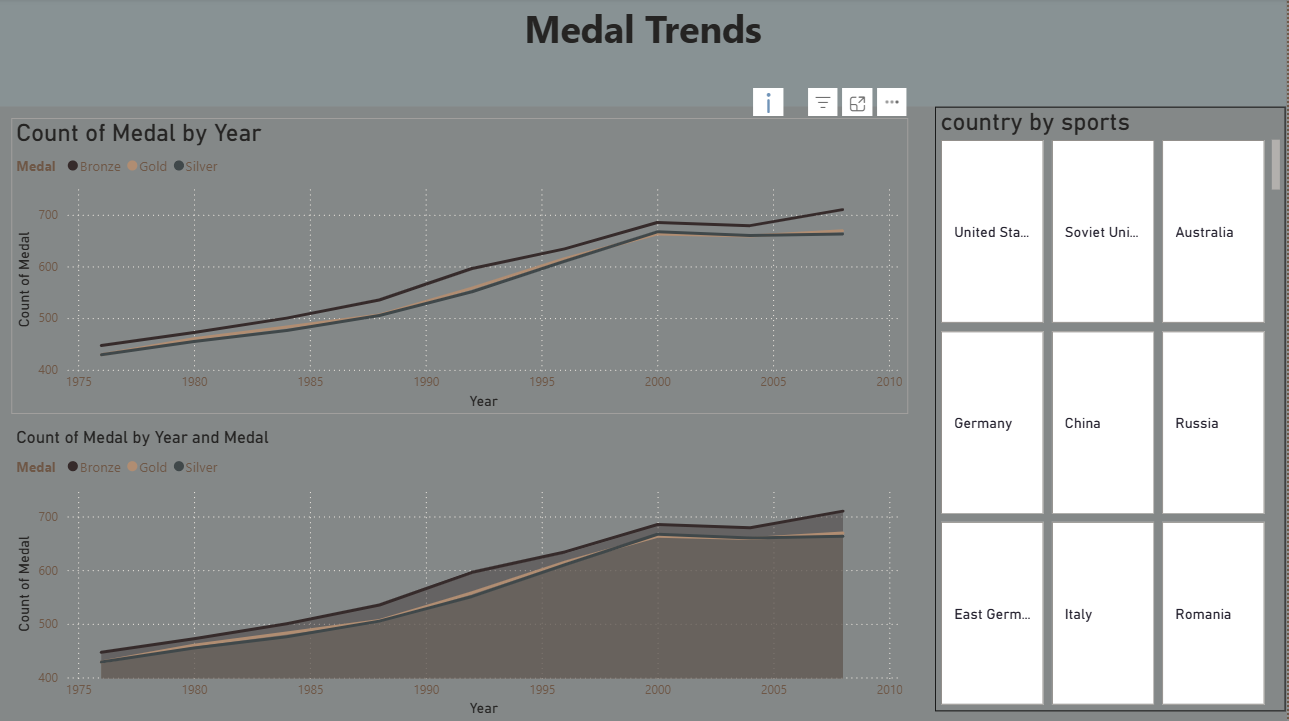

The dashboard page shown, as its layout file describes it:
{"tool":"powerbi","page":{"name":"Page 2","canvas":[1280,720],"ordinal":1},"visuals":[{"type":"textbox","box":[0,0,1279.7,108.2],"z":0},{"type":"lineChart","title":"Count of Medal   by Year ","fields":{"Category":["summer_olympic.Year"],"Series":["summer_olympic.Medal "],"Y":["CountNonNull(summer_olympic.Medal )"]},"box":[11.5,119.7,891.6,294.3],"z":1000},{"type":"areaChart","title":" Count of Medal  by Year and Medal ","fields":{"Category":["summer_olympic.Year"],"Series":["summer_olympic.Medal "],"Y":["CountNonNull(summer_olympic.Medal )"]},"box":[11,427,892,293.3],"z":2000},{"type":"advancedSlicerVisual","title":"country by sports","fields":{"Values":["summer_olympic.Country"]},"box":[930.6,108.2,349.1,601.6],"z":3000}]}

Visuals, with their boxes in screenshot pixels (x1, y1, x2, y2), scaled from the page's 1280x720 canvas onto the 1289x721 screenshot:
textbox: left=0, top=0, right=1288, bottom=108
"Count of Medal   by Year " lineChart: left=12, top=120, right=909, bottom=415
" Count of Medal  by Year and Medal " areaChart: left=11, top=428, right=909, bottom=720
"country by sports" advancedSlicerVisual: left=937, top=108, right=1288, bottom=711
